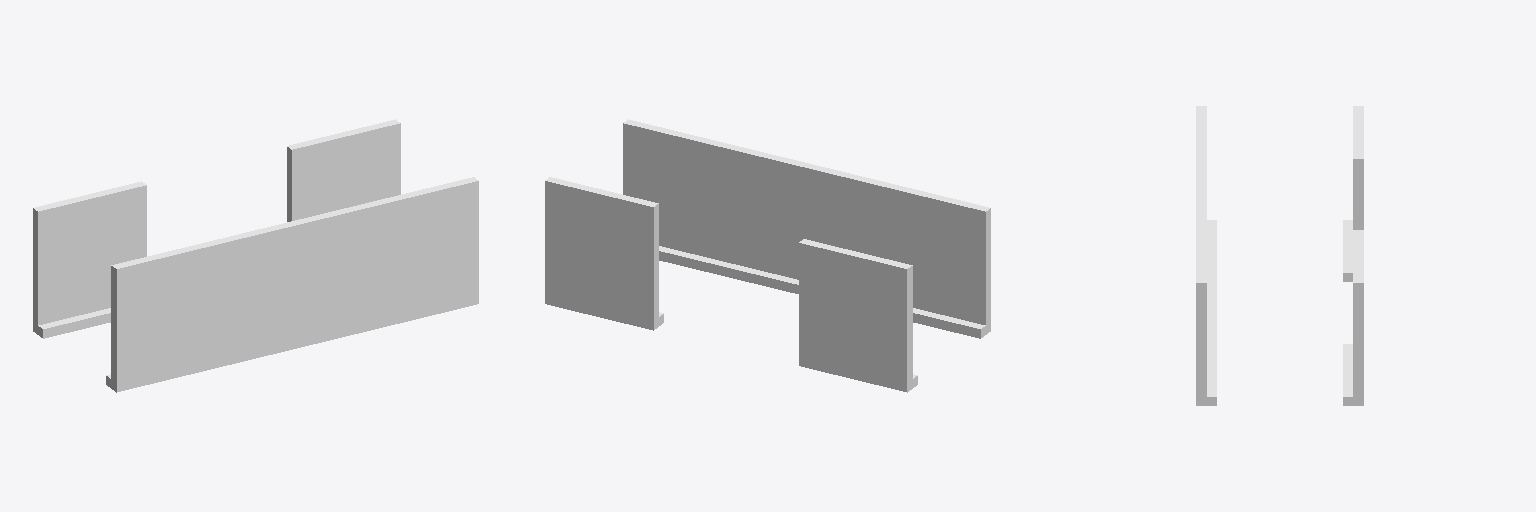
Rendered from way_t_wall.vox.obj.
3 views of the same model, side by side, from view 1: azimuth 30°, elevation 25°; view 2: azimuth 150°, elevation 25°; view 3: azimuth 270°, elevation 25° (orthographic).
Visible parts, largest first — view 1: object 1; view 2: object 1; view 3: object 1.
Part boxes in pixels (x1,y1,x2,y2): object 1: (33,119,478,392); object 1: (545,119,990,392); object 1: (1196,106,1363,405).
Size of the model in its own units: 4 by 1.3 by 1.6.